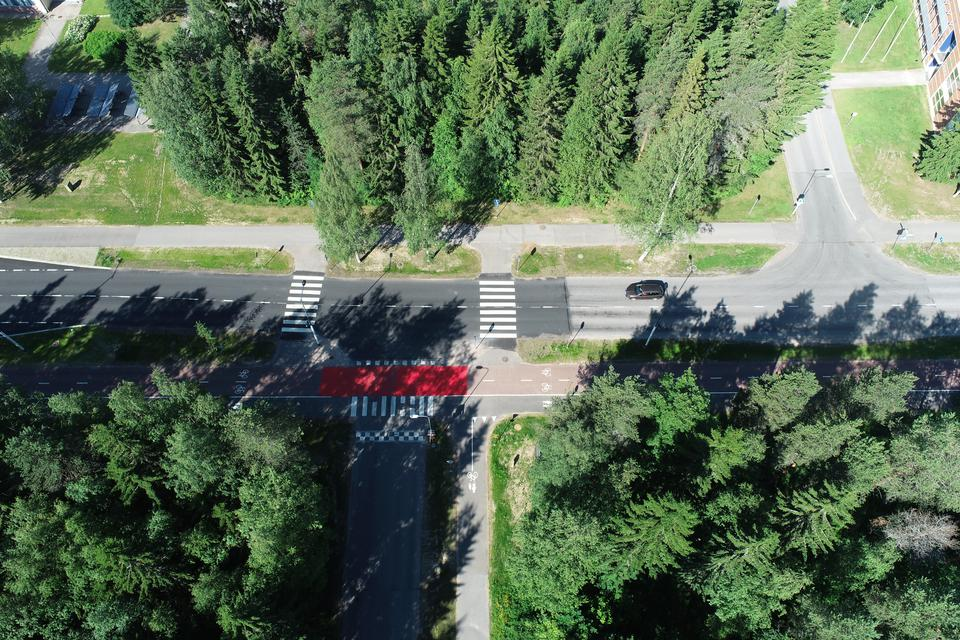intersection: (262, 229, 338, 388), (463, 213, 533, 373), (315, 393, 486, 450)
